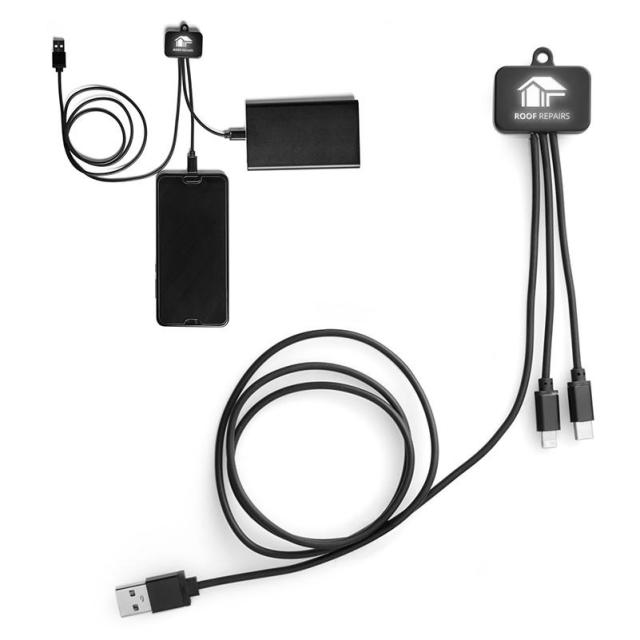inorganic: (105, 35, 616, 624), (46, 23, 377, 341), (487, 47, 592, 132)
